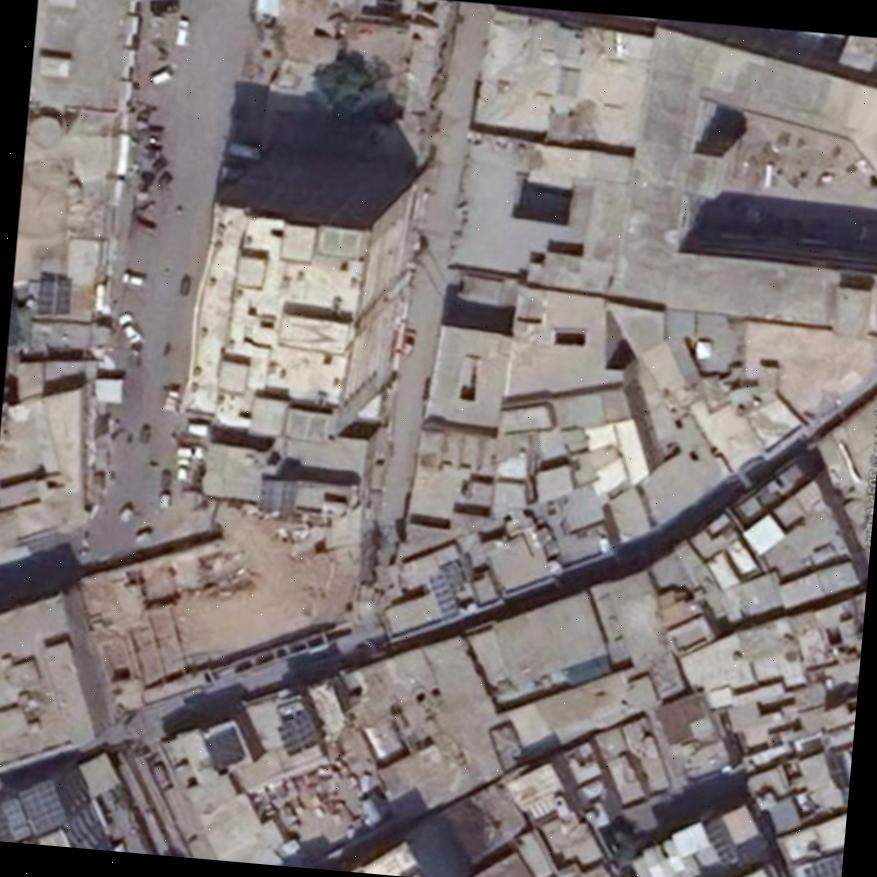Solarpanel: (16, 779, 66, 830), (277, 710, 314, 756), (425, 571, 458, 621), (0, 795, 31, 835), (36, 278, 69, 315), (802, 851, 841, 877)
